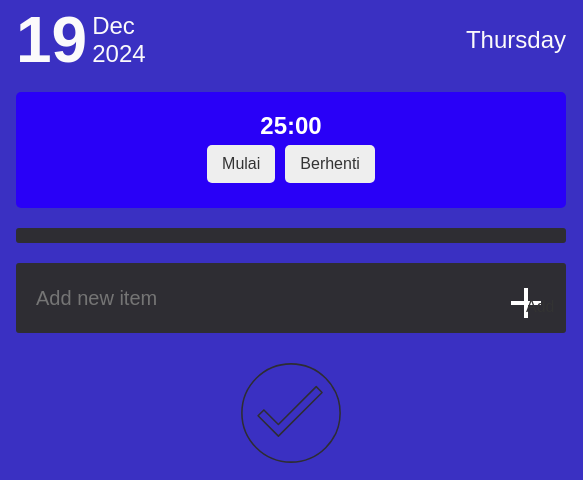
Test: adds a new item to the list
Type "New Task" into the field with placeholder "Add new item". click: (291, 298)
box: [16,263,566,333]
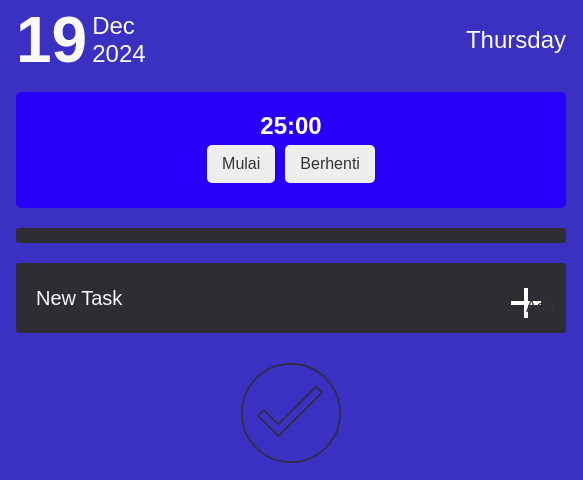
Click the button with test id "add-button". click: (526, 303)
box: [511,288,541,318]
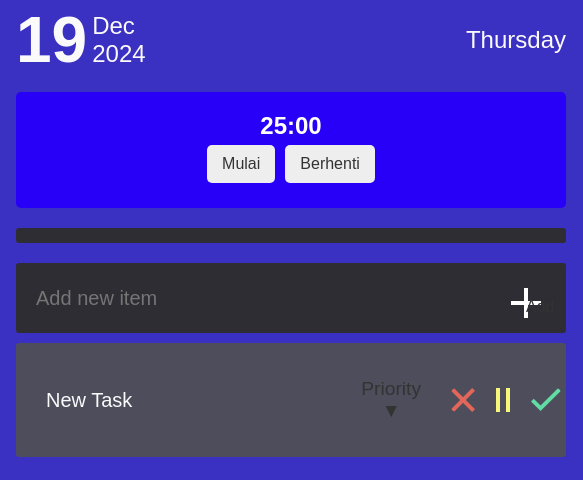
Check: the text "New Task" is shown, box [46,388,132,410]
